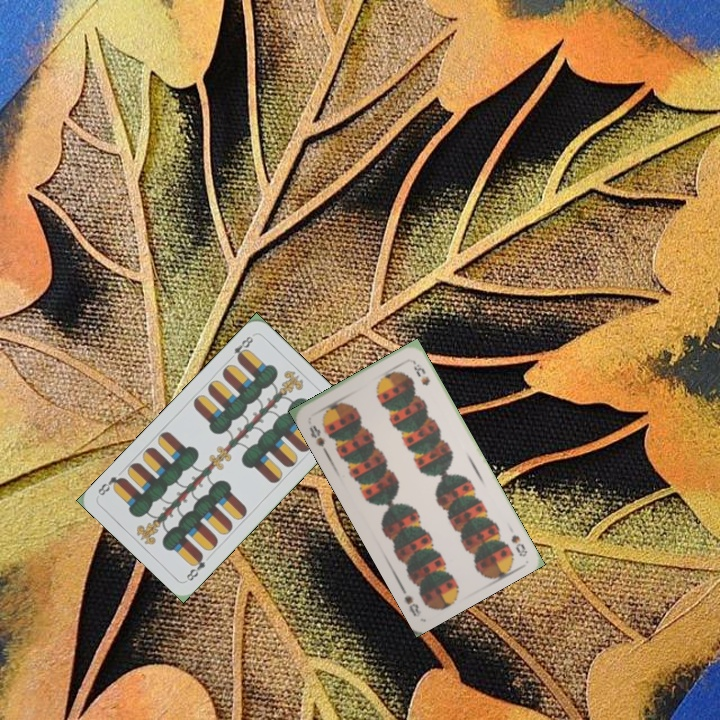E8: (224, 332, 256, 364), (182, 550, 208, 583)
S8: (305, 421, 329, 454), (507, 530, 530, 559)
